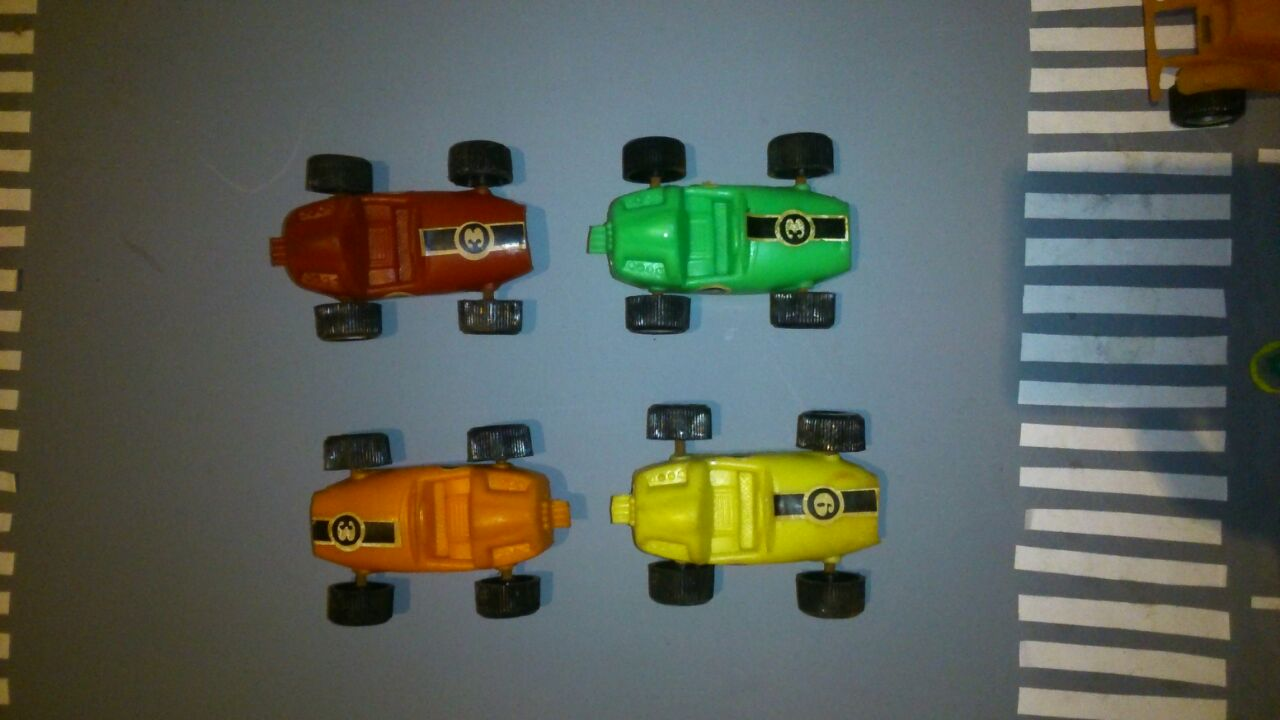amarillo: (611, 405, 885, 613)
naranja: (309, 431, 568, 613)
rojo: (272, 148, 540, 339)
verde: (589, 139, 858, 333)
